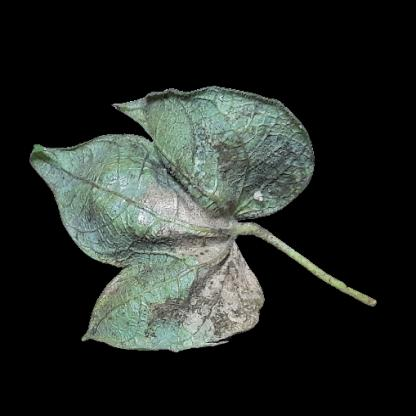curl_stage2: (77, 170, 137, 223), (150, 99, 192, 165), (103, 296, 147, 348)
sooty: (143, 198, 235, 268), (220, 129, 308, 198), (155, 277, 257, 332)
